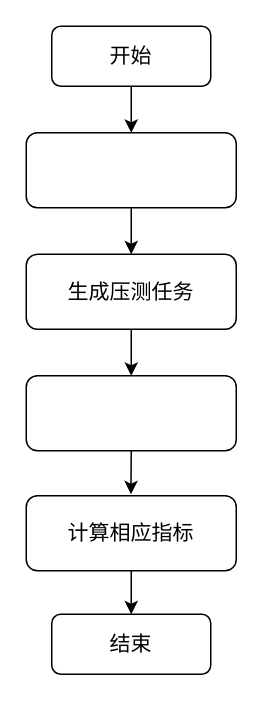
This 263x701 diagram has some shape labels left out. The centre of each missing label's shape, as x and y in pixels:
"从队列中取出测试任务" belongs at pixel 130 169.
"订阅交易信息" belongs at pixel 130 412.
